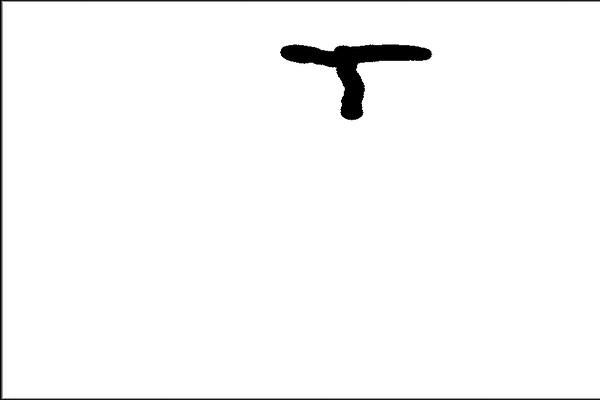T: (280, 34, 437, 126)
